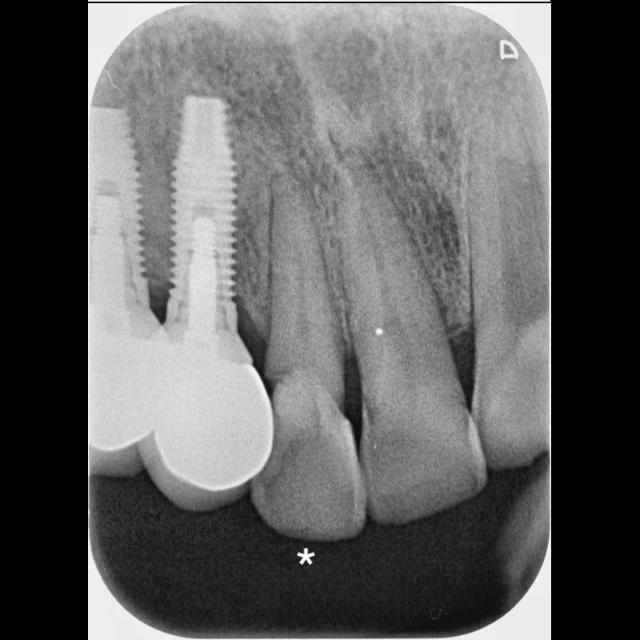test-segment: (252, 181, 366, 540)
